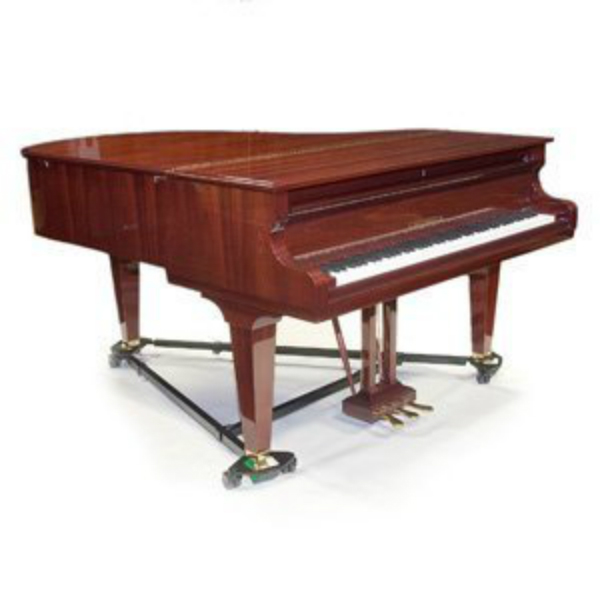GrandPiano: (40, 119, 579, 386)
